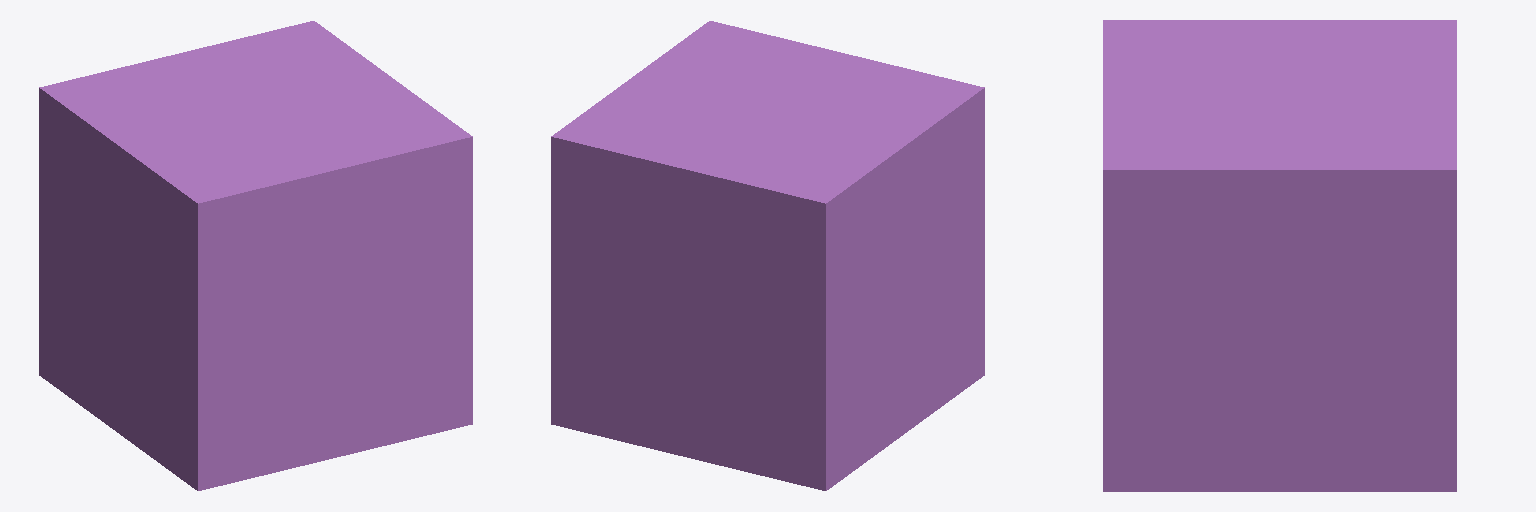
robot.urdf — random_box:
<?xml version='1.0' encoding='UTF-8'?>
<robot name="random_box">
  <link name="box">
    <visual>
      <geometry>
        <box size="0.05 0.05 0.05"/>
      </geometry>
      <material name="color">
        <color rgba="0.7644910906174824 0.5423491929866385 0.8360857453028946 1"/>
      </material>
    </visual>
    <collision>
      <geometry>
        <box size="0.05 0.05 0.05"/>
      </geometry>
    </collision>
  </link>
</robot>

--- Render facts (derived) ---
The picture shows the robot from 3 angles, left to right: view 1: azimuth 30°, elevation 25°; view 2: azimuth 150°, elevation 25°; view 3: azimuth 270°, elevation 25°; orthographic projection.
Model random_box with 1 links and 0 joints (none), rooted at box, posed every joint at zero.
Visible links, largest first — view 1: box; view 2: box; view 3: box.
Link boxes in pixels (x1,y1,x2,y2): box: (39, 21, 472, 490); box: (551, 21, 984, 490); box: (1103, 20, 1456, 491).
Bounding box of the posed robot: 0.05 × 0.05 × 0.05 m (x, y, z).
Geometry: primitives only (box / cylinder / sphere), no mesh files.